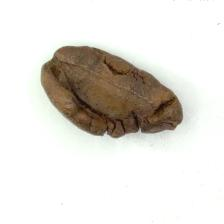NG: (54, 52, 168, 140)
